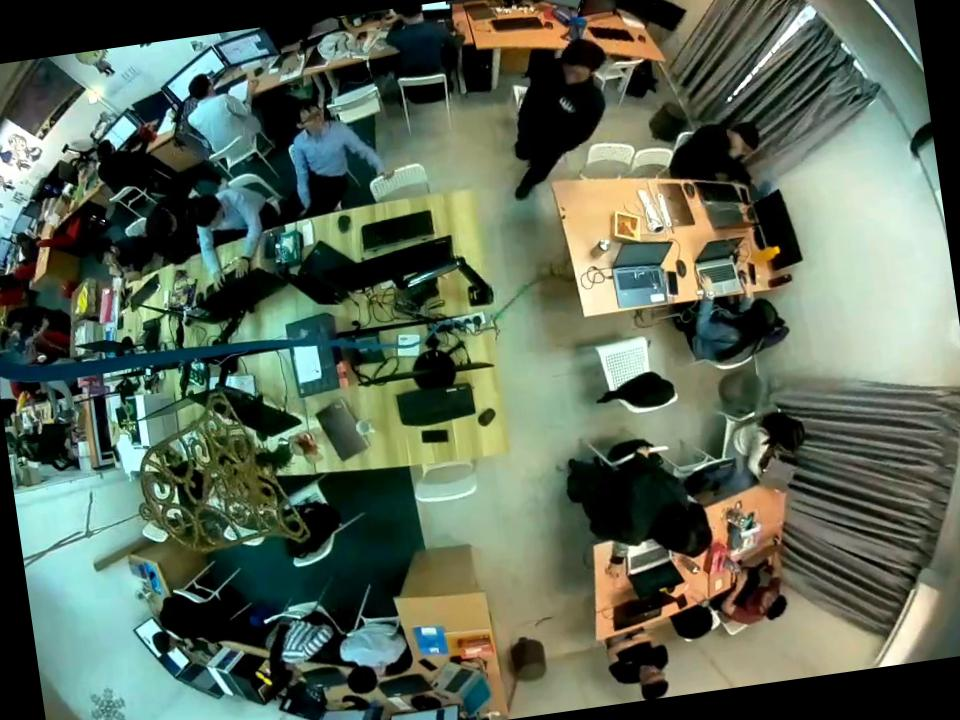employee_tag: (557, 92, 579, 115)
